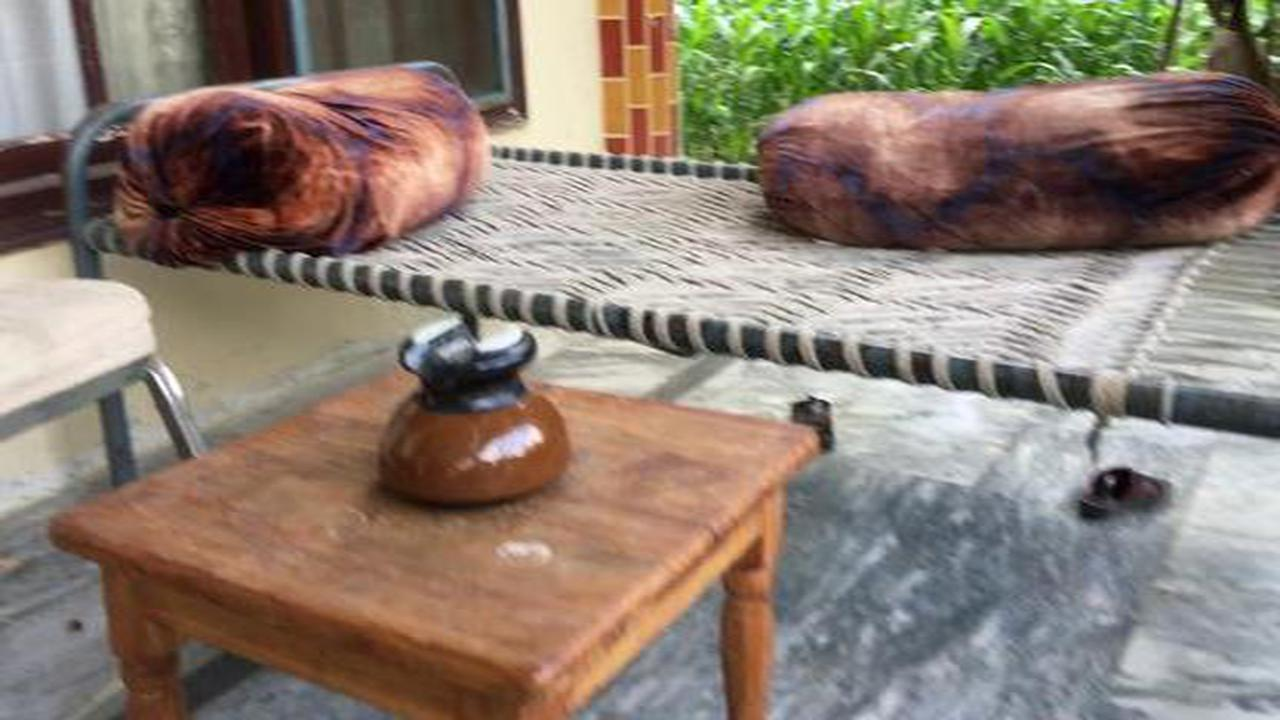insulator_pin: (348, 298, 588, 521)
